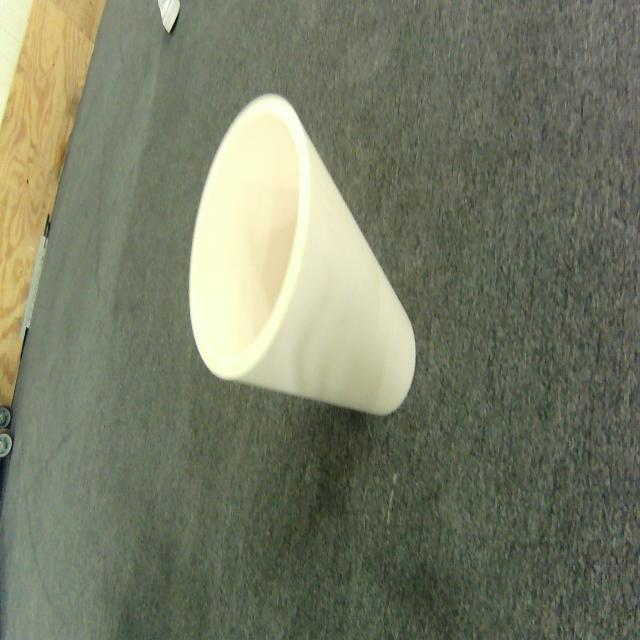coral: (189, 95, 415, 415)
